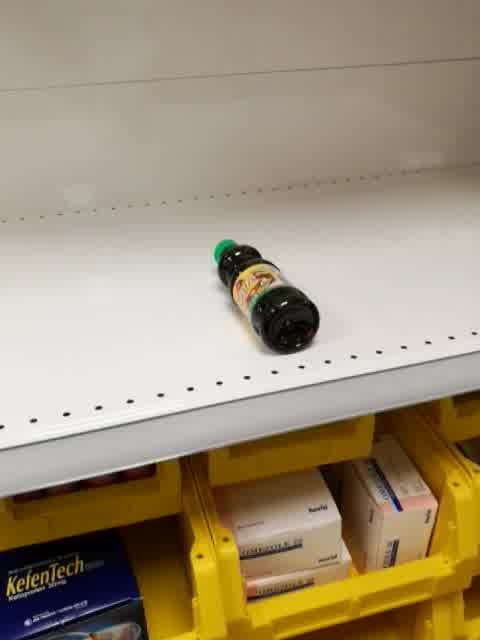cookingoil: (212, 237, 323, 356)
